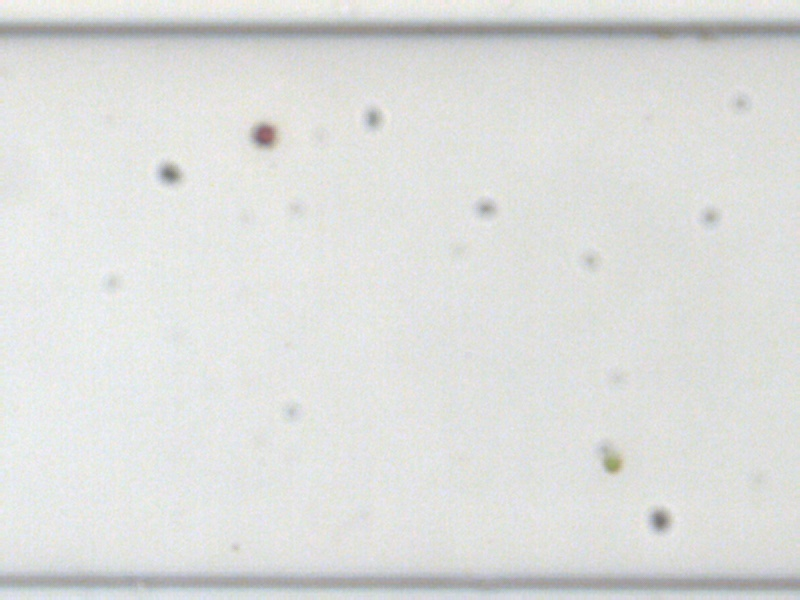Chlorella: (603, 455, 620, 471)
Porphyridium: (251, 121, 279, 147)
